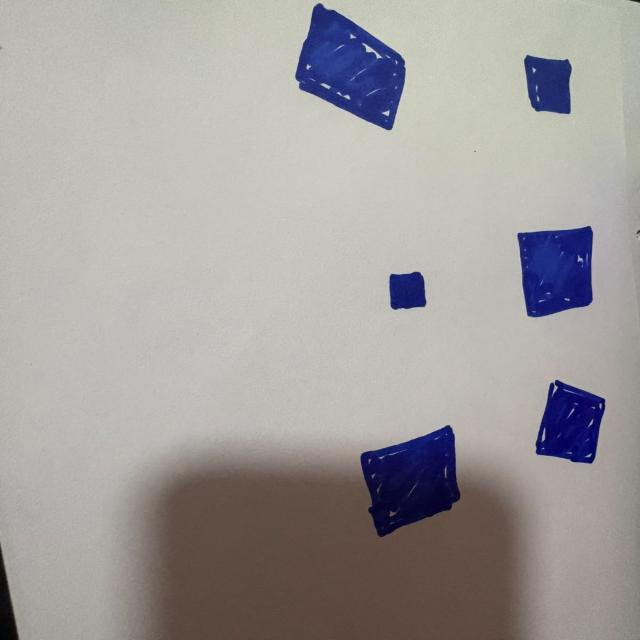Square: (295, 4, 405, 130), (361, 426, 460, 536), (518, 226, 593, 317), (536, 380, 604, 463), (524, 55, 572, 114), (389, 271, 429, 310)
